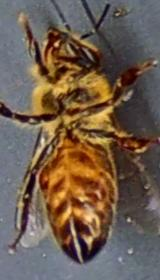varroa_mite: (30, 162, 61, 198)
